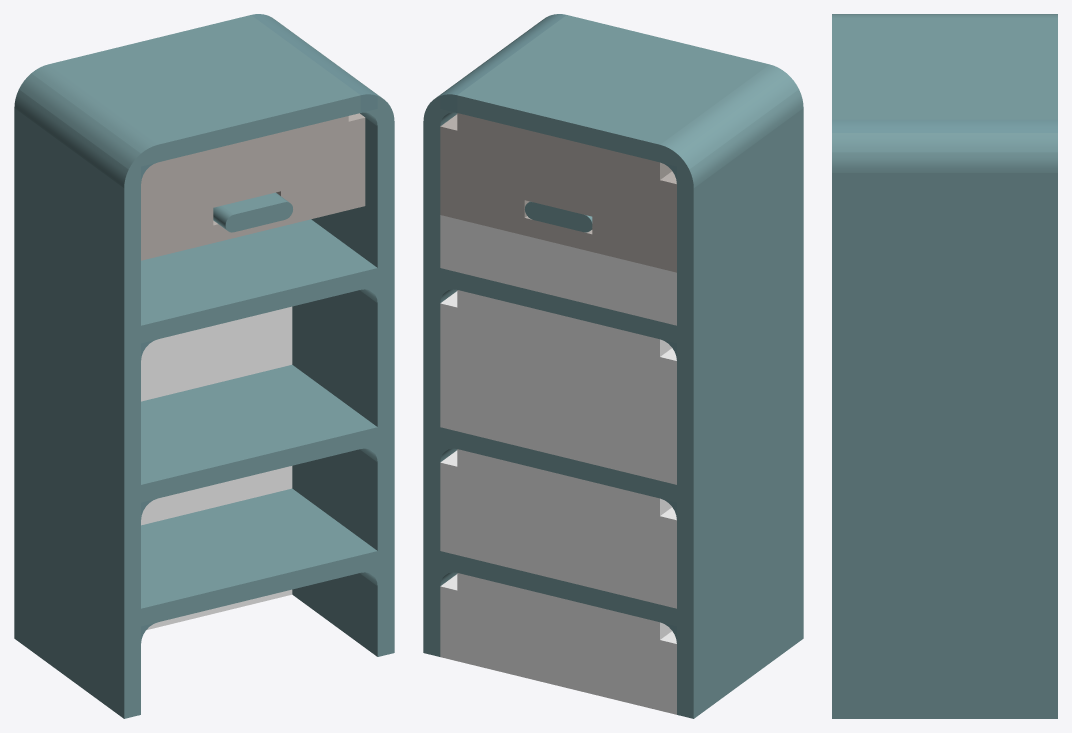
File: fridge.glb
The picture shows the model from 3 angles, left to right: view 1: azimuth 30°, elevation 25°; view 2: azimuth 150°, elevation 25°; view 3: azimuth 270°, elevation 25°; orthographic projection. The views are drawn at different scales.
Parts seen in each view (by area): view 1: generated(Clone); view 2: generated(Clone); view 3: generated(Clone).
Boxes of the visible parts, box(x1,y1,x2,y2) form: generated(Clone): box(14, 14, 394, 718); generated(Clone): box(423, 14, 803, 718); generated(Clone): box(832, 14, 1057, 718).
Bounding box in the file's own units: 8 × 16 × 5.62.
1 material, 1 textured.
